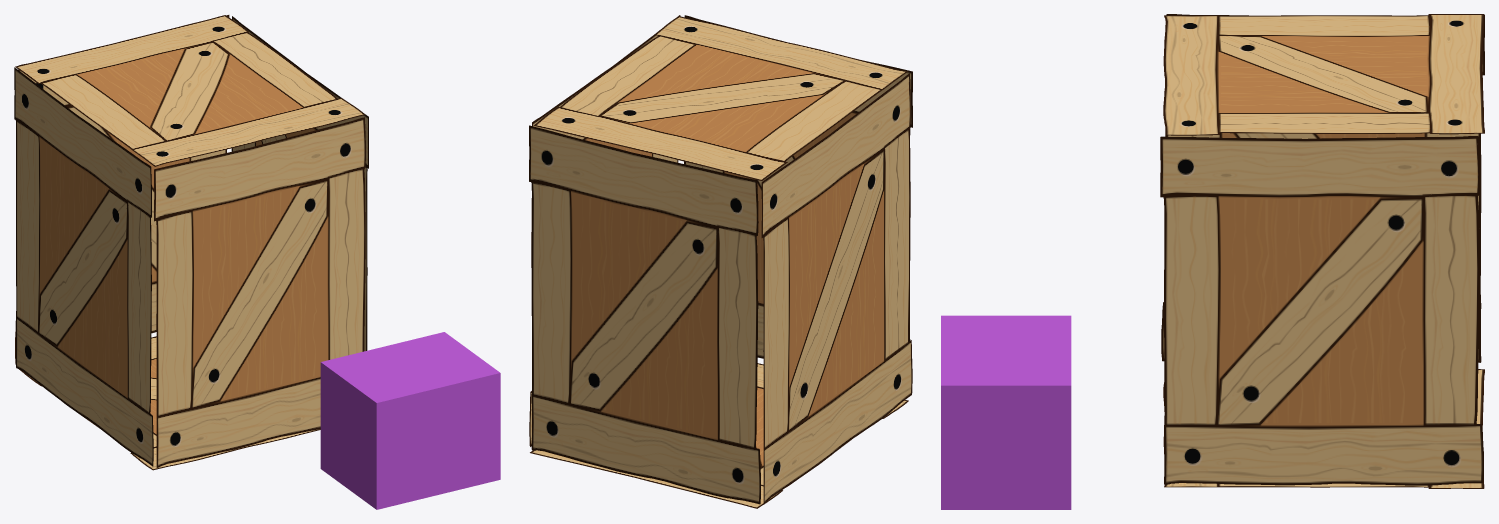
The model's file is OCCuboTextureAnimated.DAE.
The picture shows the model from 3 angles, left to right: view 1: azimuth 30°, elevation 25°; view 2: azimuth 150°, elevation 25°; view 3: azimuth 270°, elevation 25°; orthographic projection. The views are drawn at different scales.
Visible parts, largest first — view 1: Box01, Box02; view 2: Box01; view 3: Box01, Box02.
Boxes of the visible parts, x1=… form: Box01: x1=14, y1=15, x2=368, y2=470; Box02: x1=320, y1=332, x2=500, y2=509; Box01: x1=529, y1=15, x2=912, y2=508; Box01: x1=1160, y1=14, x2=1484, y2=488; Box02: x1=941, y1=315, x2=1071, y2=509.
Bounding box in the file's own units: 22.99 × 36.93 × 26.44.
